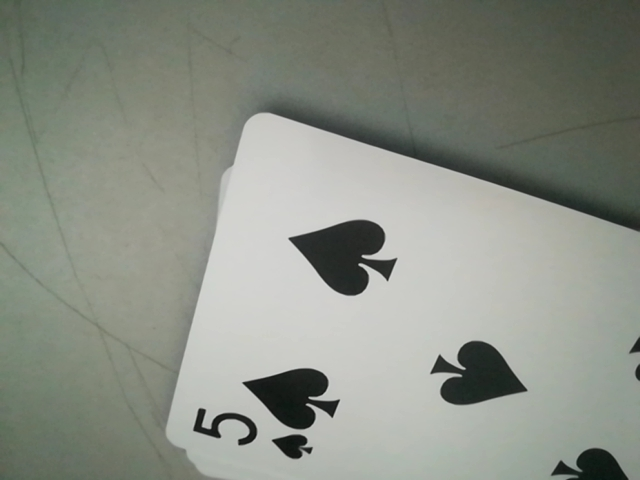ht 5: (183, 408, 329, 468)
